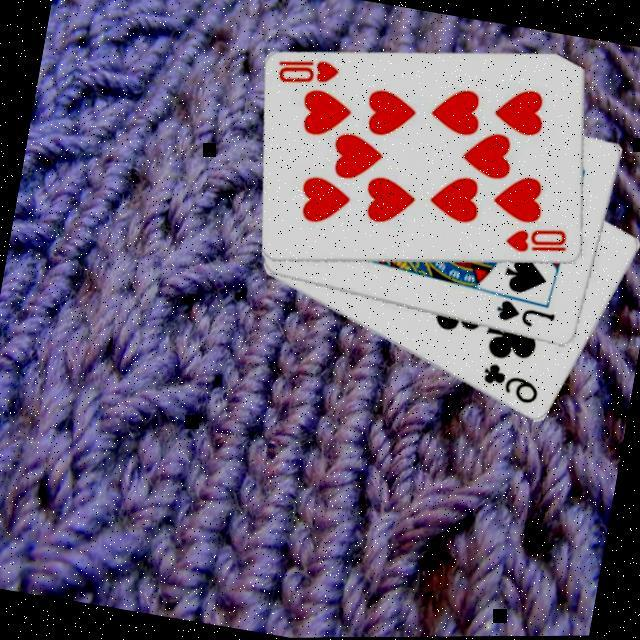10H: (503, 218, 574, 264), (274, 49, 346, 94)
9C: (477, 358, 547, 409)
JS: (493, 296, 561, 334)
